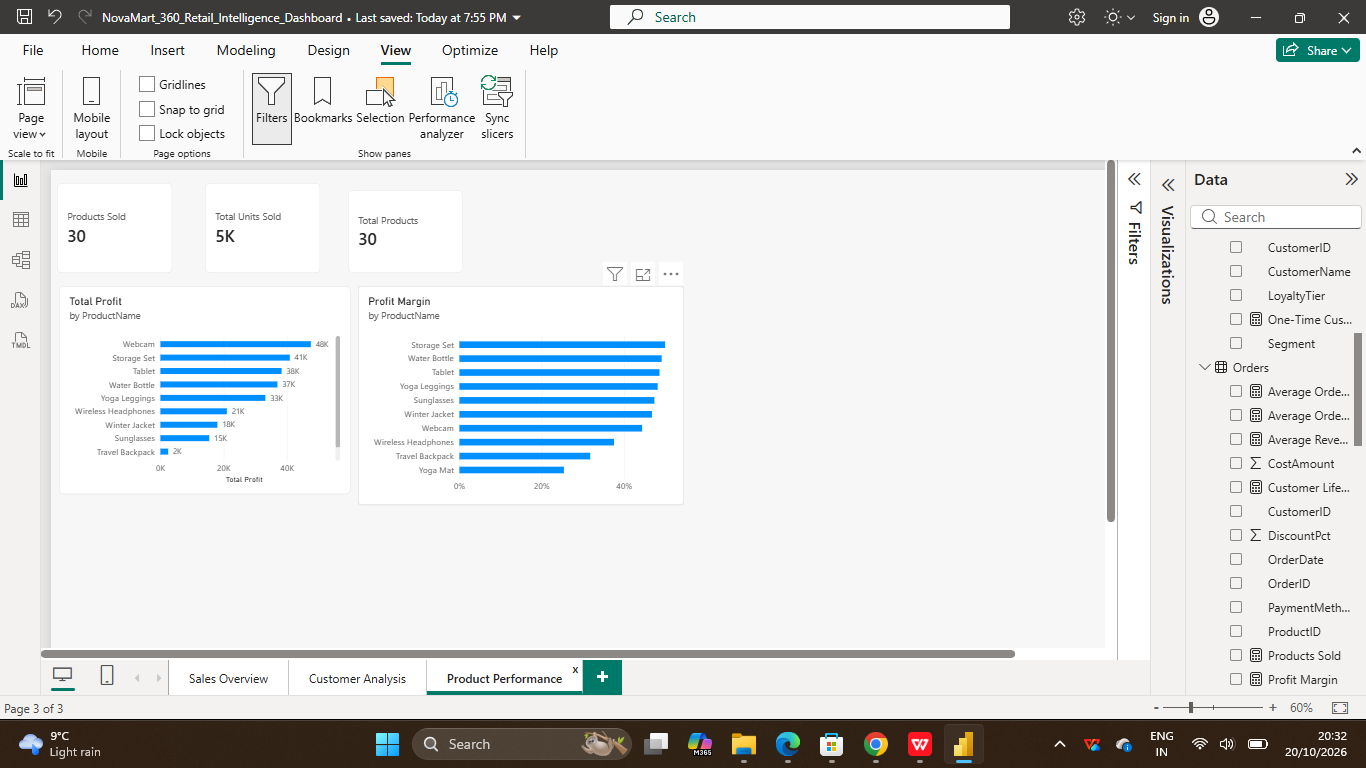

The dashboard page shown, as its layout file describes it:
{"tool":"powerbi","page":{"name":"Product Performance","canvas":[1920,1080],"ordinal":2},"visuals":[{"type":"cardVisual","fields":{"Data":["Products.Total Products"]},"box":[495.7,32.9,191.4,138.6],"z":0},{"type":"cardVisual","fields":{"Data":["Orders.Products Sold"]},"box":[10,21.5,192,150],"z":1000},{"type":"cardVisual","fields":{"Data":["Orders.Total Units Sold"]},"box":[256,22,192,150],"z":2000},{"type":"clusteredBarChart","fields":{"Category":["Products.ProductName"],"Y":["Orders.Total Profit"]},"box":[12.9,192.9,485.7,347.1],"z":3000},{"type":"clusteredBarChart","fields":{"Category":["Products.ProductName"],"Y":["Orders.Profit Margin"]},"box":[512,193,543,366],"z":4000}]}

Visuals, with their boxes on the page's 1920x1080 design canvas (x1, y1, x2, y2). These are canvas units, not pixel positions in the 1366x768 screenshot, which may show the page scaled, cropped or inside an application window:
cardVisual - Products.Total Products: bbox(496, 33, 687, 172)
cardVisual - Orders.Products Sold: bbox(10, 22, 202, 172)
cardVisual - Orders.Total Units Sold: bbox(256, 22, 448, 172)
clusteredBarChart - Products.ProductName x Orders.Total Profit: bbox(13, 193, 499, 540)
clusteredBarChart - Products.ProductName x Orders.Profit Margin: bbox(512, 193, 1055, 559)
